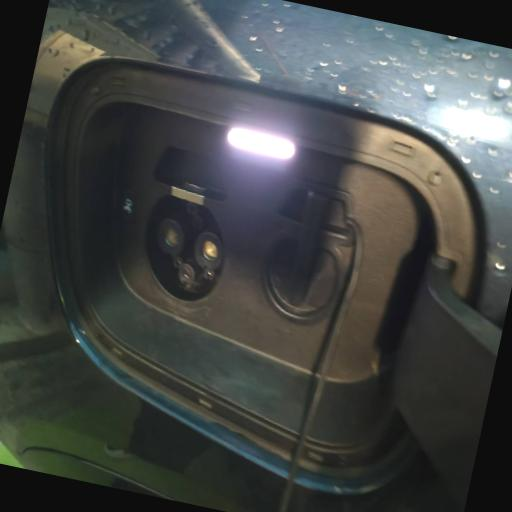DC_charging_port: (129, 192, 237, 314)
DC_hole: (189, 228, 227, 274), (152, 214, 190, 258)
PE: (176, 262, 196, 288)
